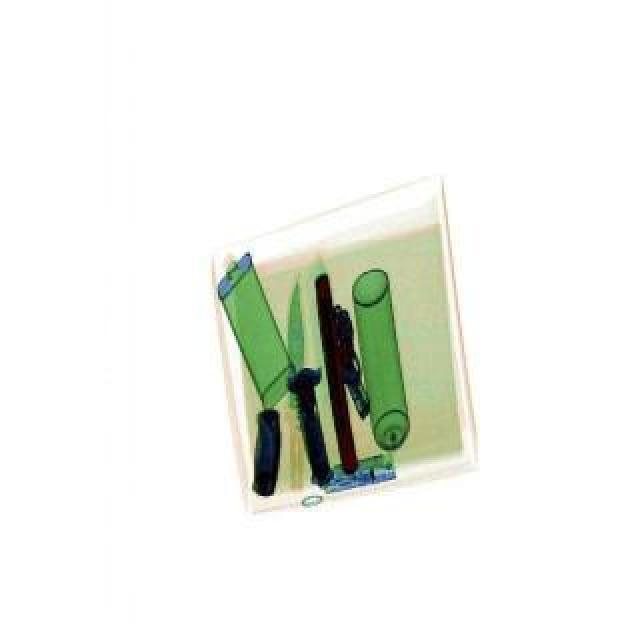gun: (322, 306, 378, 424)
knife: (282, 370, 338, 492), (252, 412, 282, 502), (284, 286, 304, 412)
